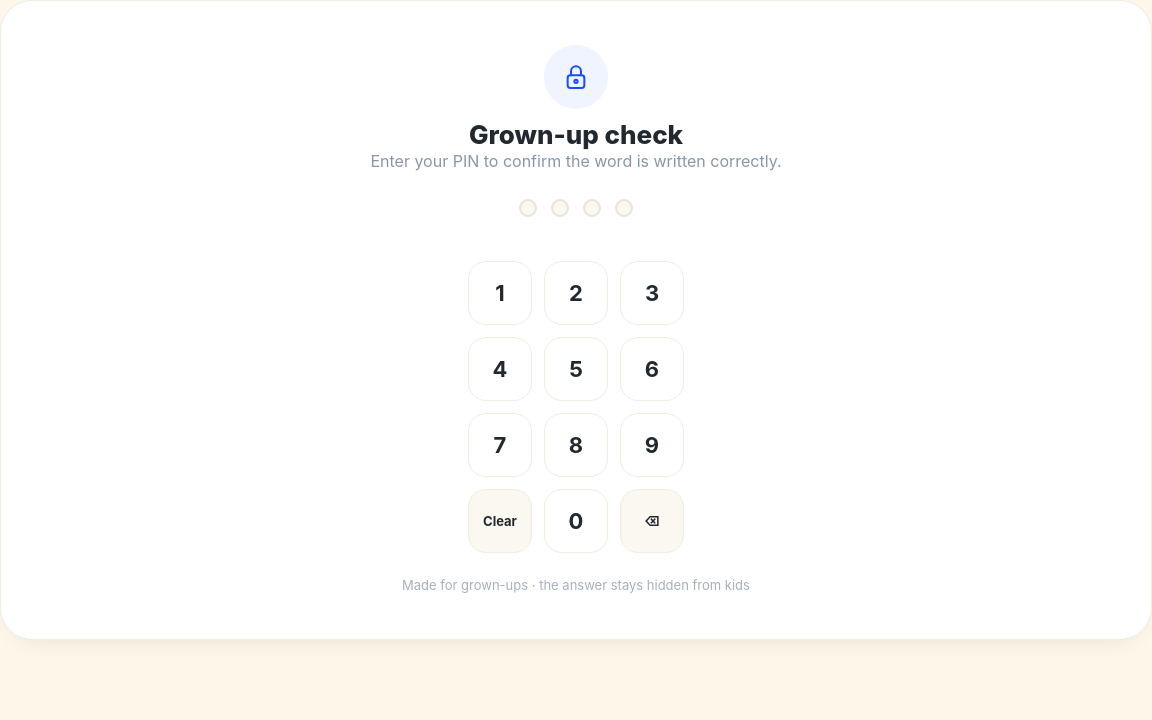
ParentVerify › shows an error and stays locked on a wrong PIN
This screenshot has width=1152, height=720.
Click the button "9": (652, 445) [620,413,684,477]
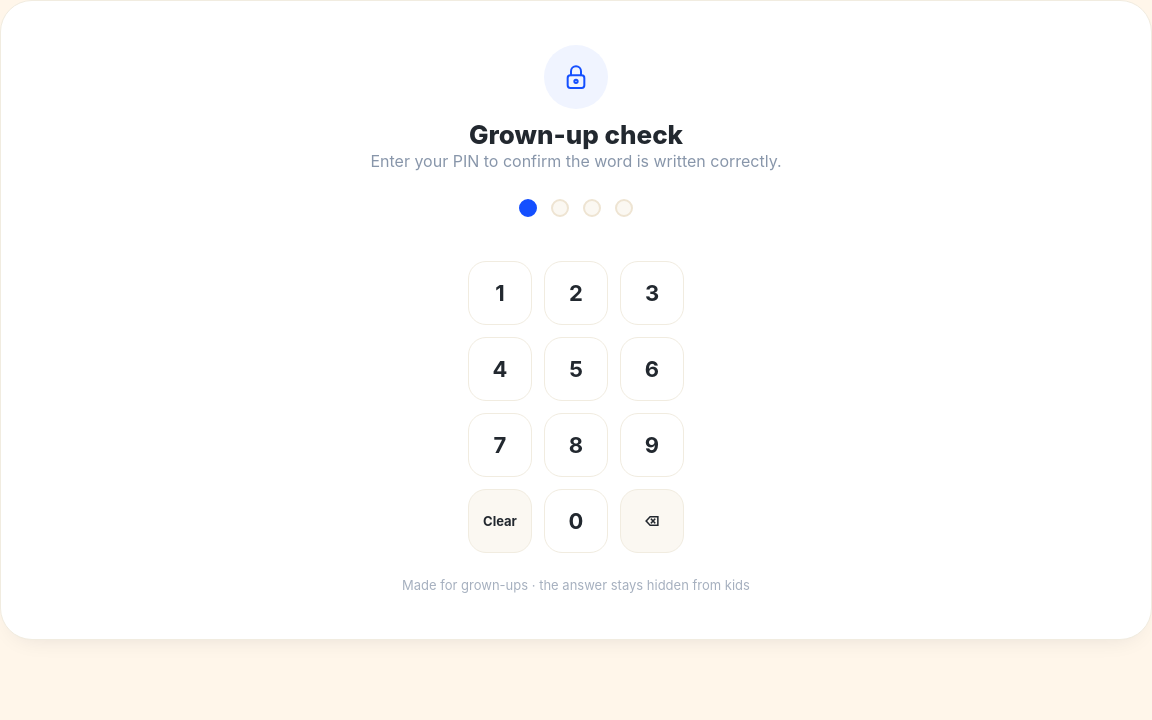
Click the button "9": (652, 445) [620,413,684,477]
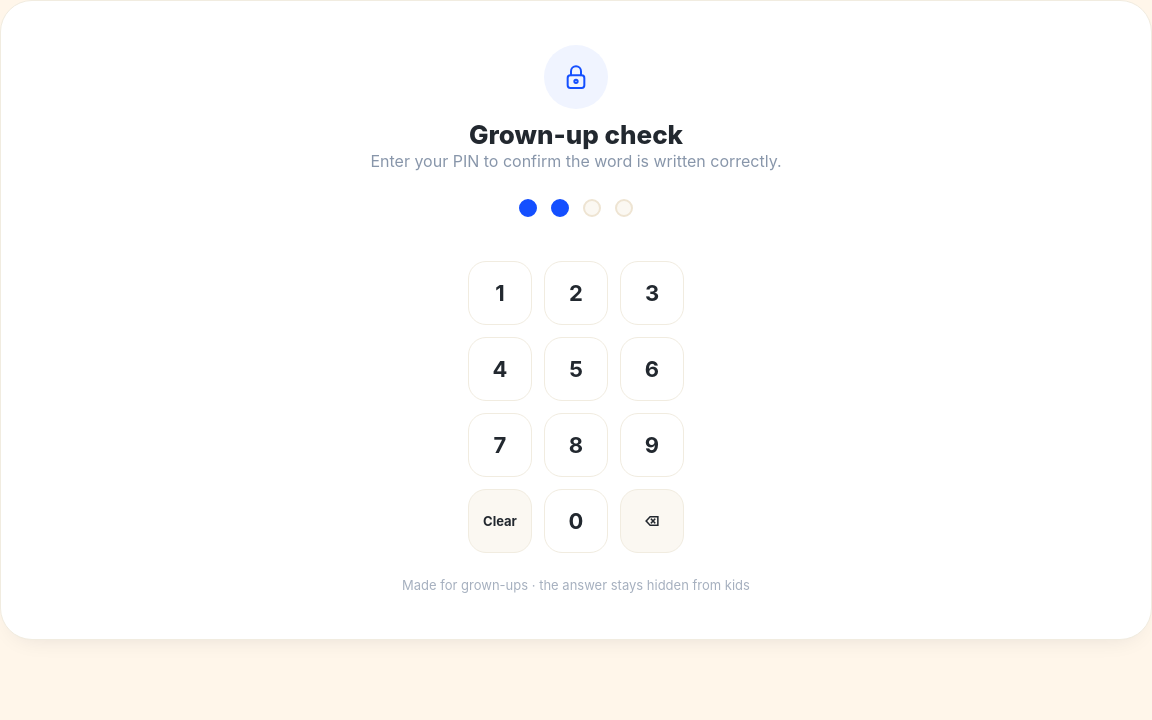
Click the button "9": (652, 445) [620,413,684,477]
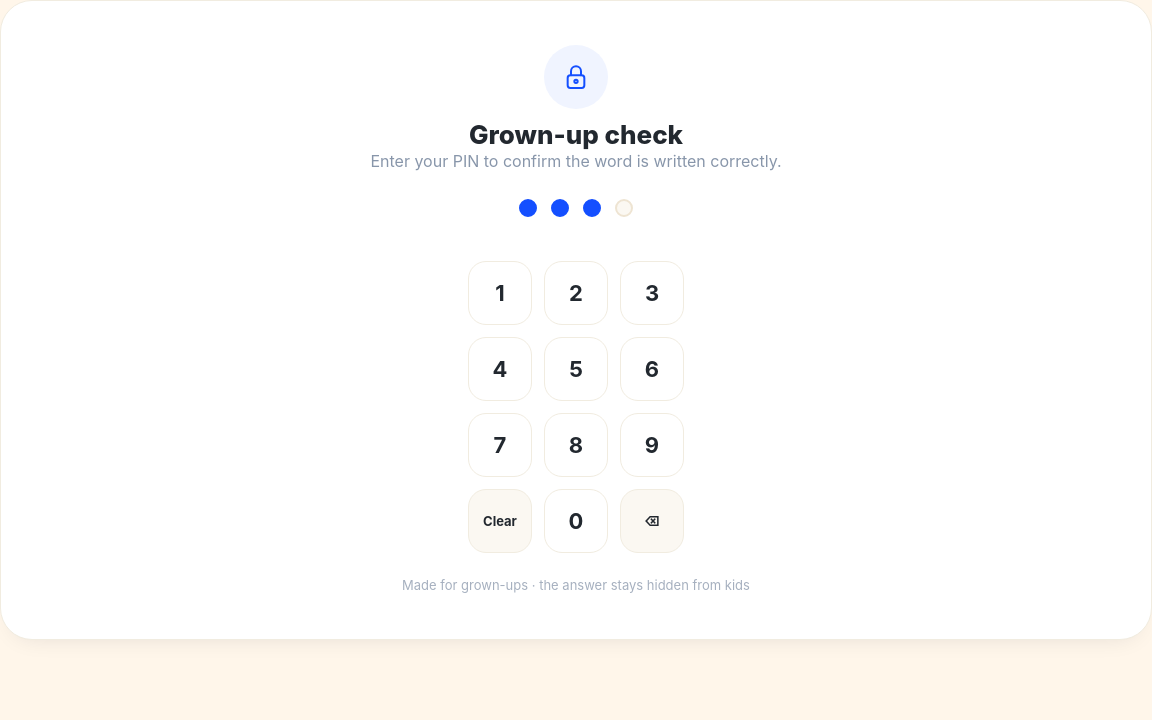
Click the button "9": (652, 445) [620,413,684,477]
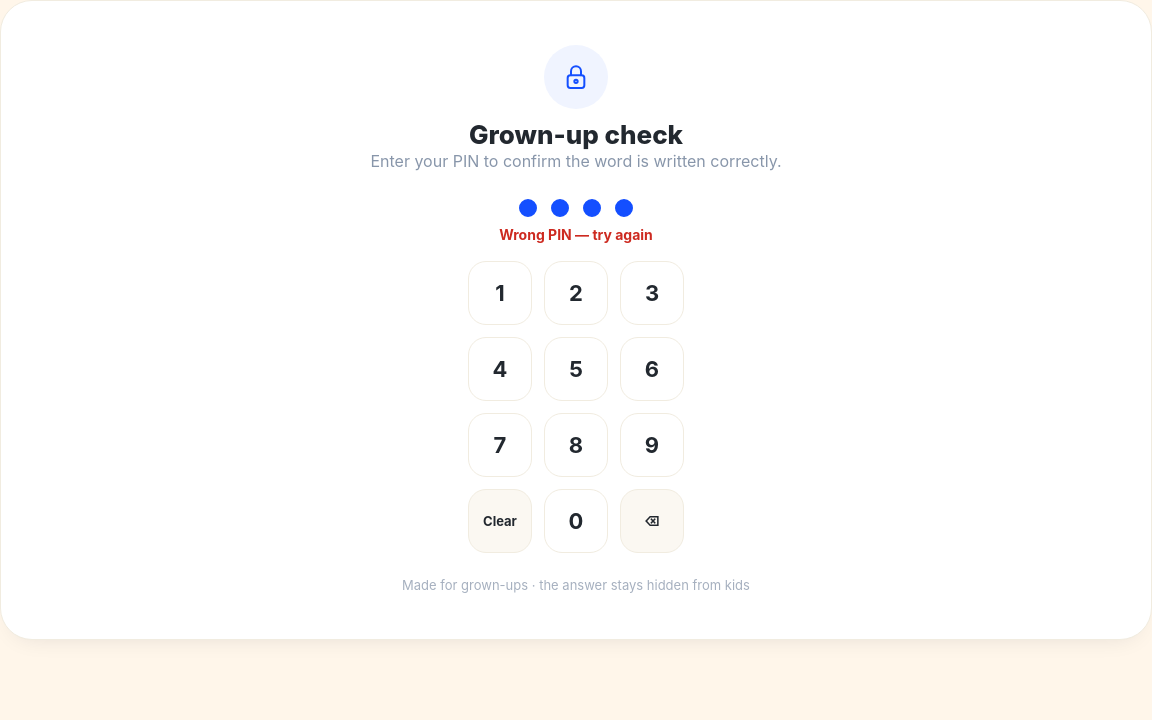
Now the text "Wrong PIN — try again" is shown, box [499,226,653,243]
